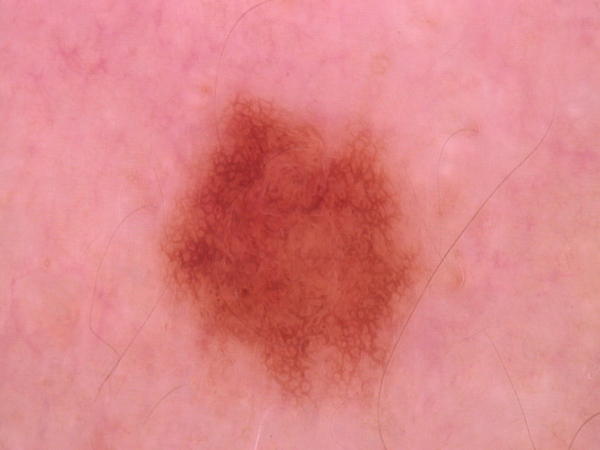Detected Lesion: (155, 84, 434, 417)
